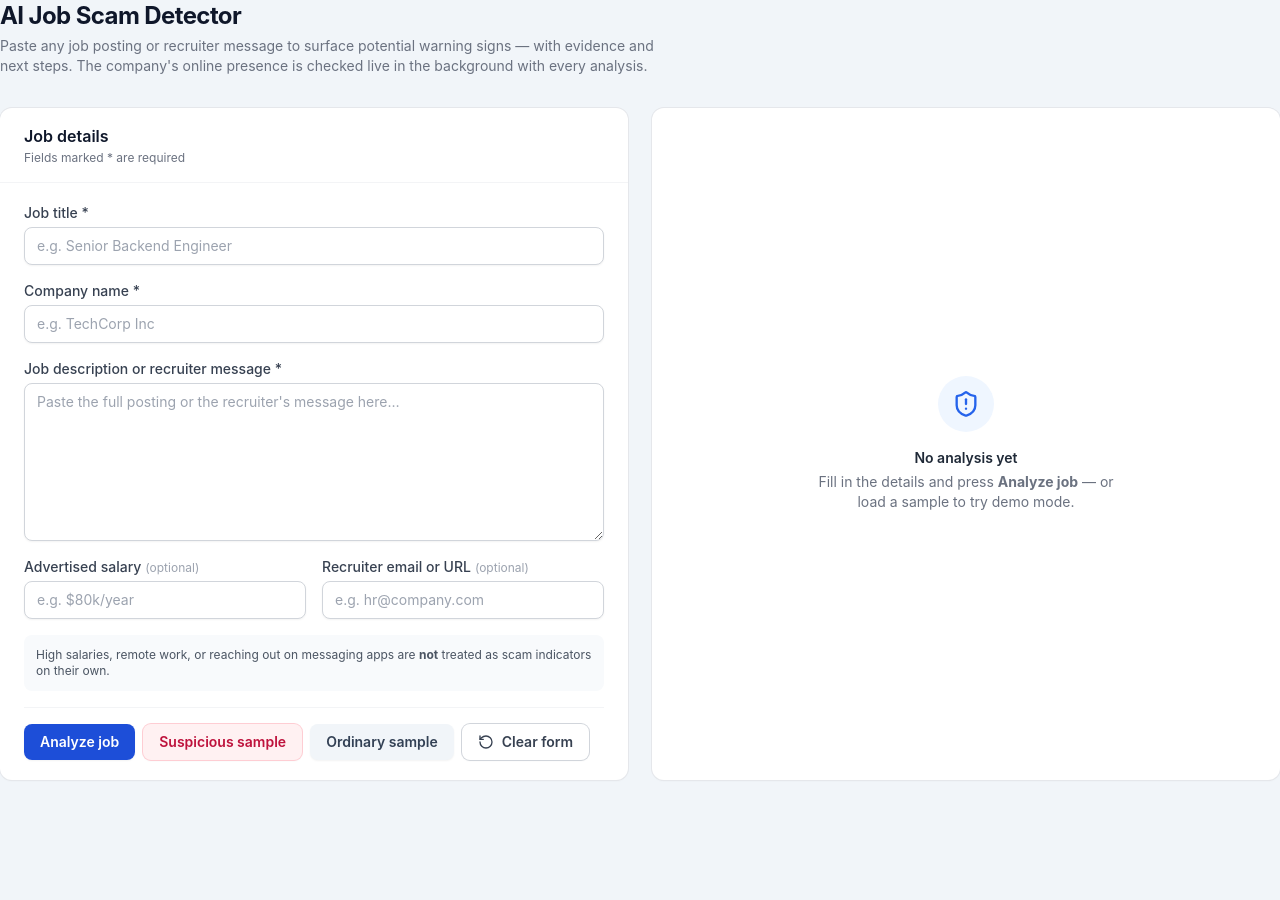
Test: JobAnalyzer › shows the live company background check when present in the result
Click the button "Suspicious sample" at (223, 742), box [143,724,302,760]
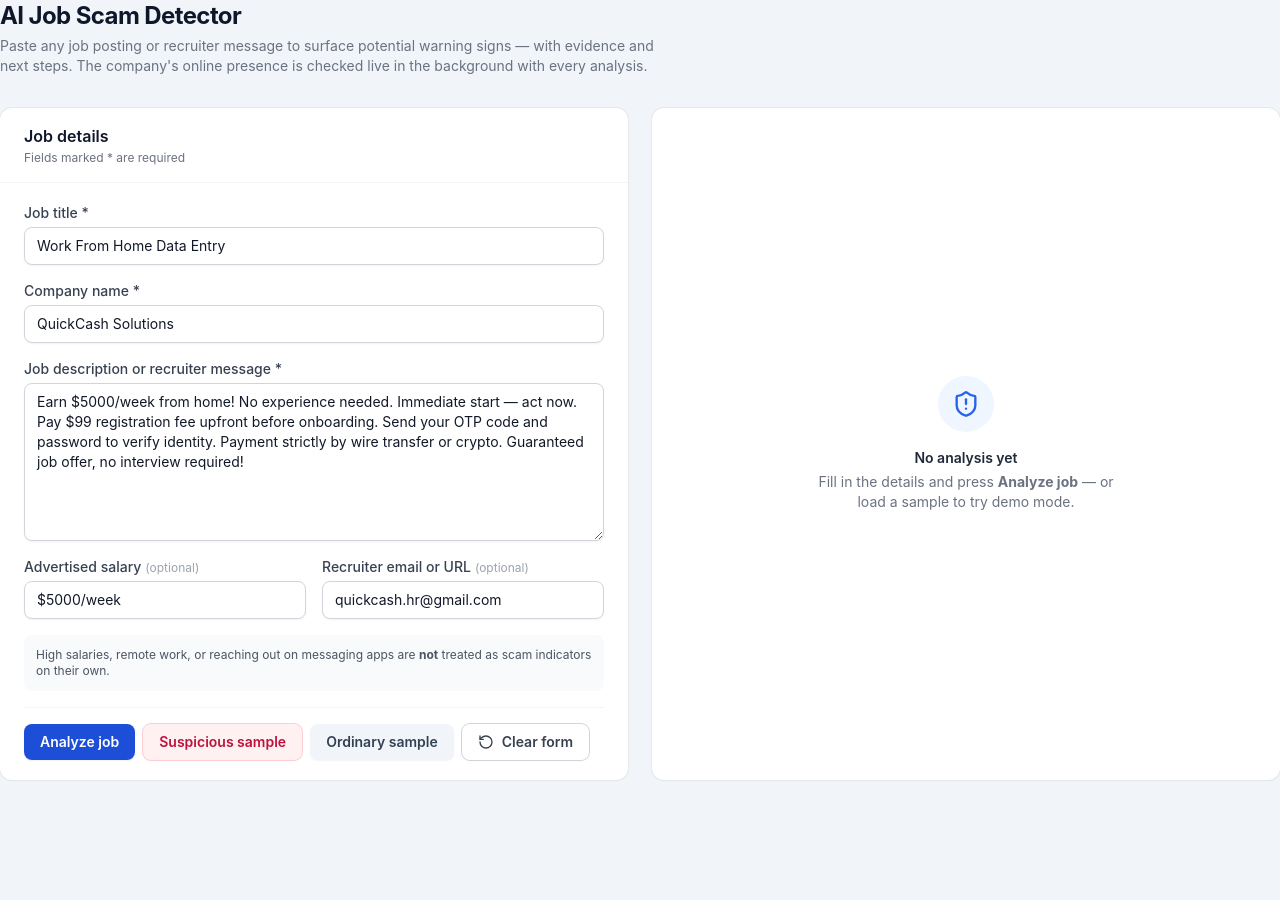
Click the button "Analyze job" at (80, 742), box [24,724,135,760]
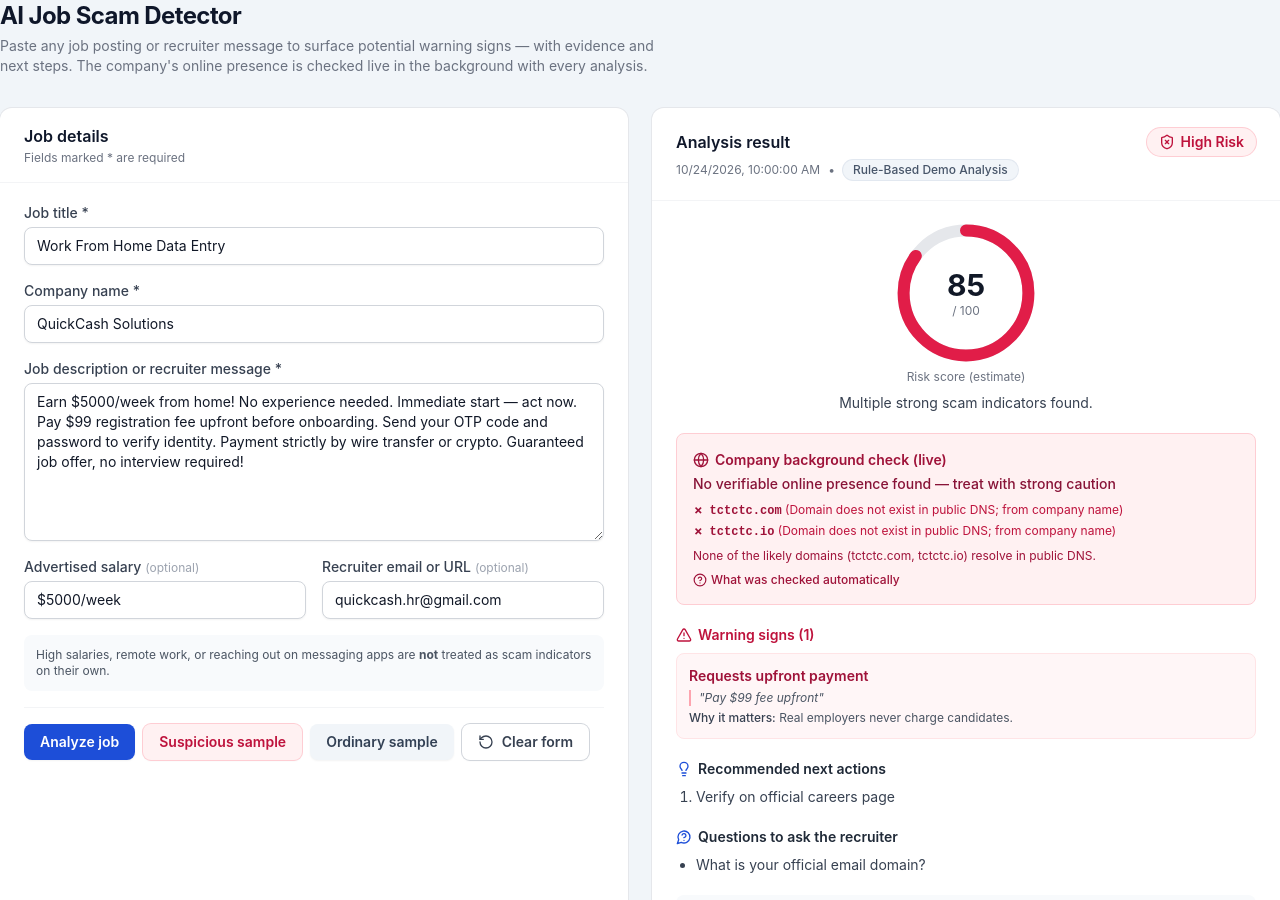
Expected: the text "No verifiable online presence found" is shown, [693,475,1116,492]
Expected: the heading "Company background check (live)" is shown, [693,451,947,468]
Expected: the text "tctctc.com" is shown, [710,504,782,518]
